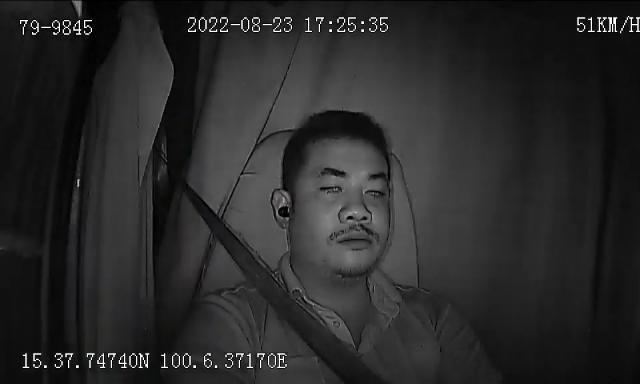SafeDriving: (359, 174, 394, 202)
Seatbelt: (185, 188, 383, 384)
